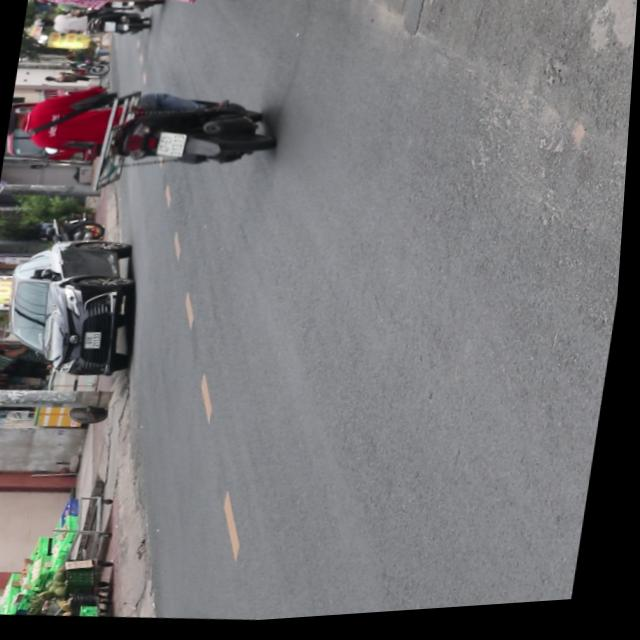licenseplate: (2, 74, 281, 191)
motorcyclist: (8, 109, 27, 136)
nohelmet: (156, 134, 186, 161)
